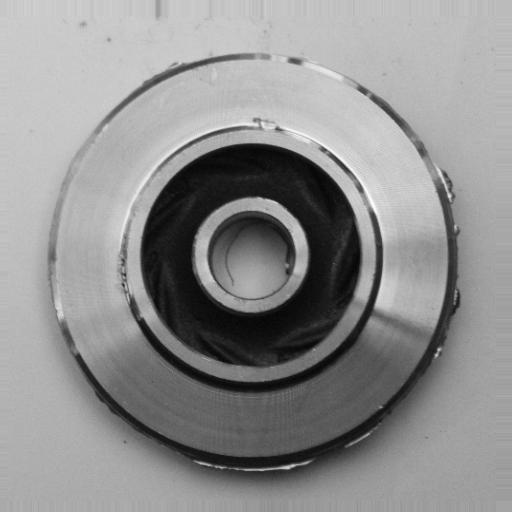casting_with_burr: (45, 49, 468, 479)
crack: (113, 203, 144, 329), (249, 105, 292, 141)
